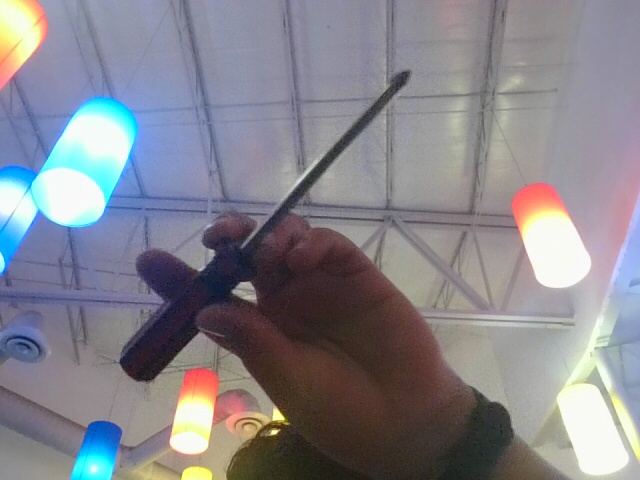destornillador: (121, 72, 410, 378)
